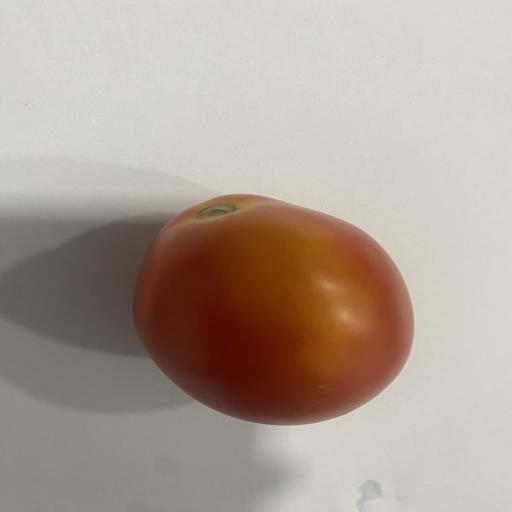ripe: (133, 195, 413, 425)
